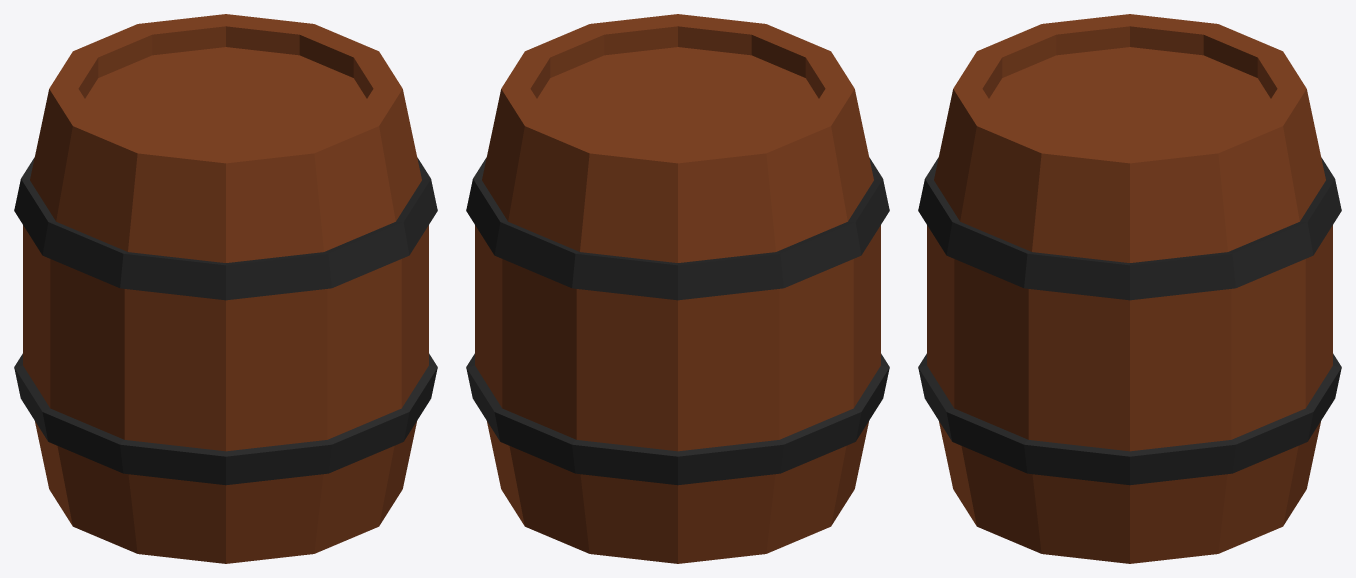
File: Barrel.fbx
The picture shows the model from 3 angles, left to right: view 1: azimuth 30°, elevation 25°; view 2: azimuth 150°, elevation 25°; view 3: azimuth 270°, elevation 25°; orthographic projection.
Parts seen in each view (by area): view 1: Cylinder; view 2: Cylinder; view 3: Cylinder.
Part boxes in pixels (<box>): Cylinder: <box>14,14,437,563</box>; Cylinder: <box>466,14,889,563</box>; Cylinder: <box>918,14,1341,563</box>.
Bounding box in the file's own units: 95.87 × 100 × 95.87.
